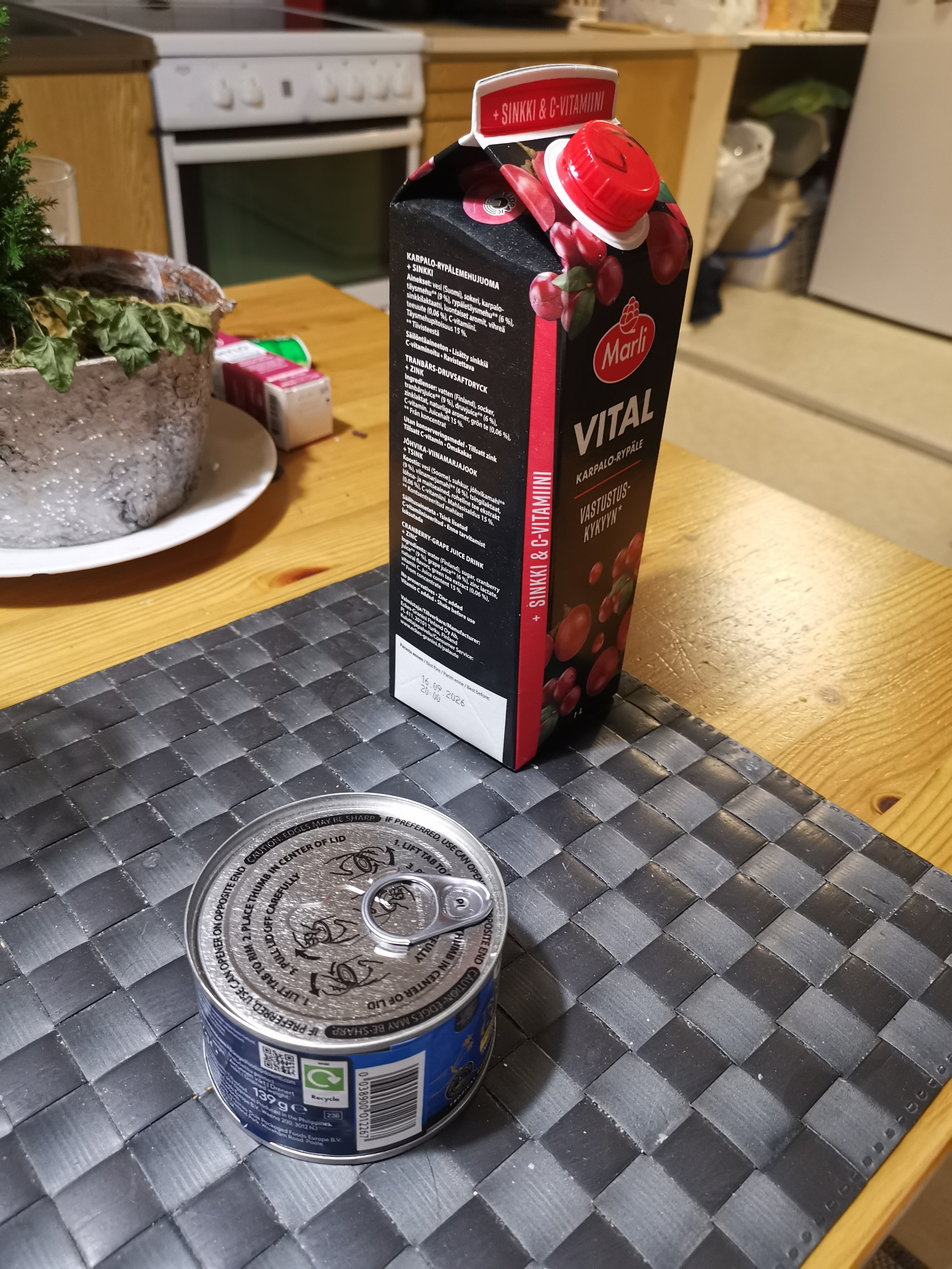Dryckeskartong: (385, 60, 696, 776)
Konservburk: (182, 791, 511, 1169)
